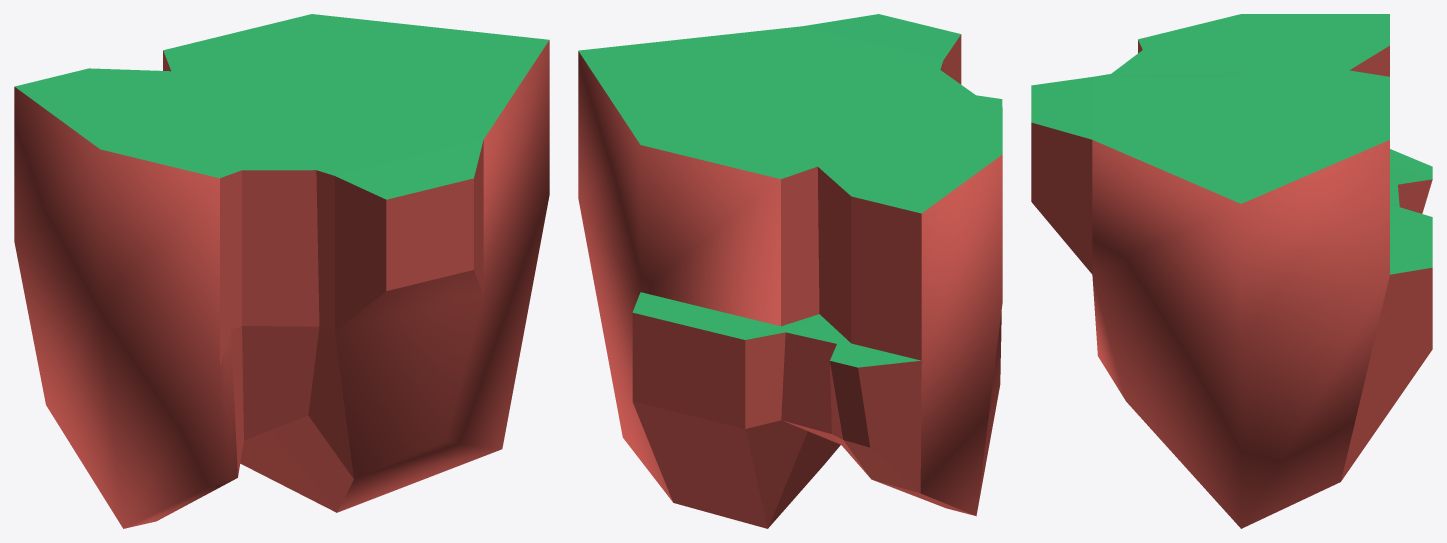
File: lacune.fbx_Cliff001.fbx
3 renders of one model, left to right at view 1: azimuth 30°, elevation 25°; view 2: azimuth 150°, elevation 25°; view 3: azimuth 270°, elevation 25°, orthographic. The views are drawn at different scales.
Visible parts, largest first — view 1: Cliff001; view 2: Cliff001; view 3: Cliff001.
Part boxes in pixels (<box>): Cliff001: <box>14,14,549,528</box>; Cliff001: <box>578,14,1002,528</box>; Cliff001: <box>1031,14,1432,528</box>.
Size of what is drawn, in the model's own units: 3985 by 3373 by 3559.
